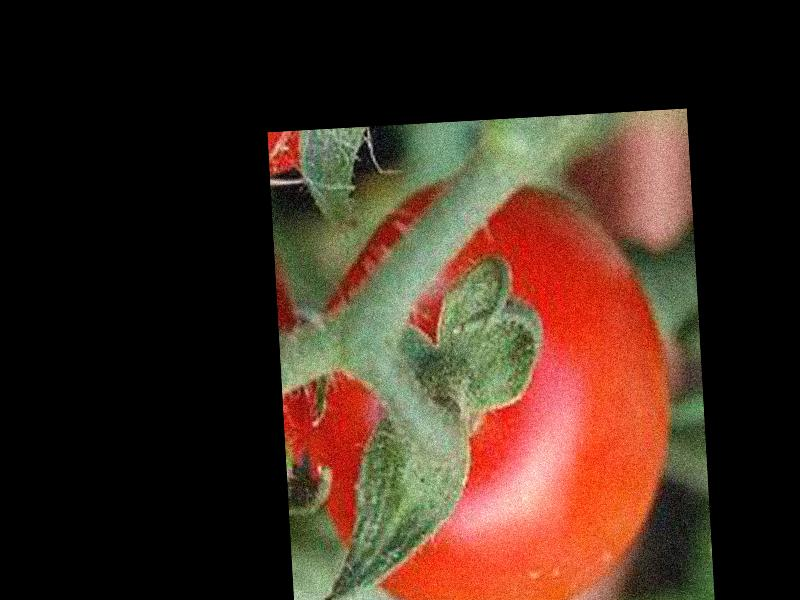Tomato: (280, 165, 680, 600)
